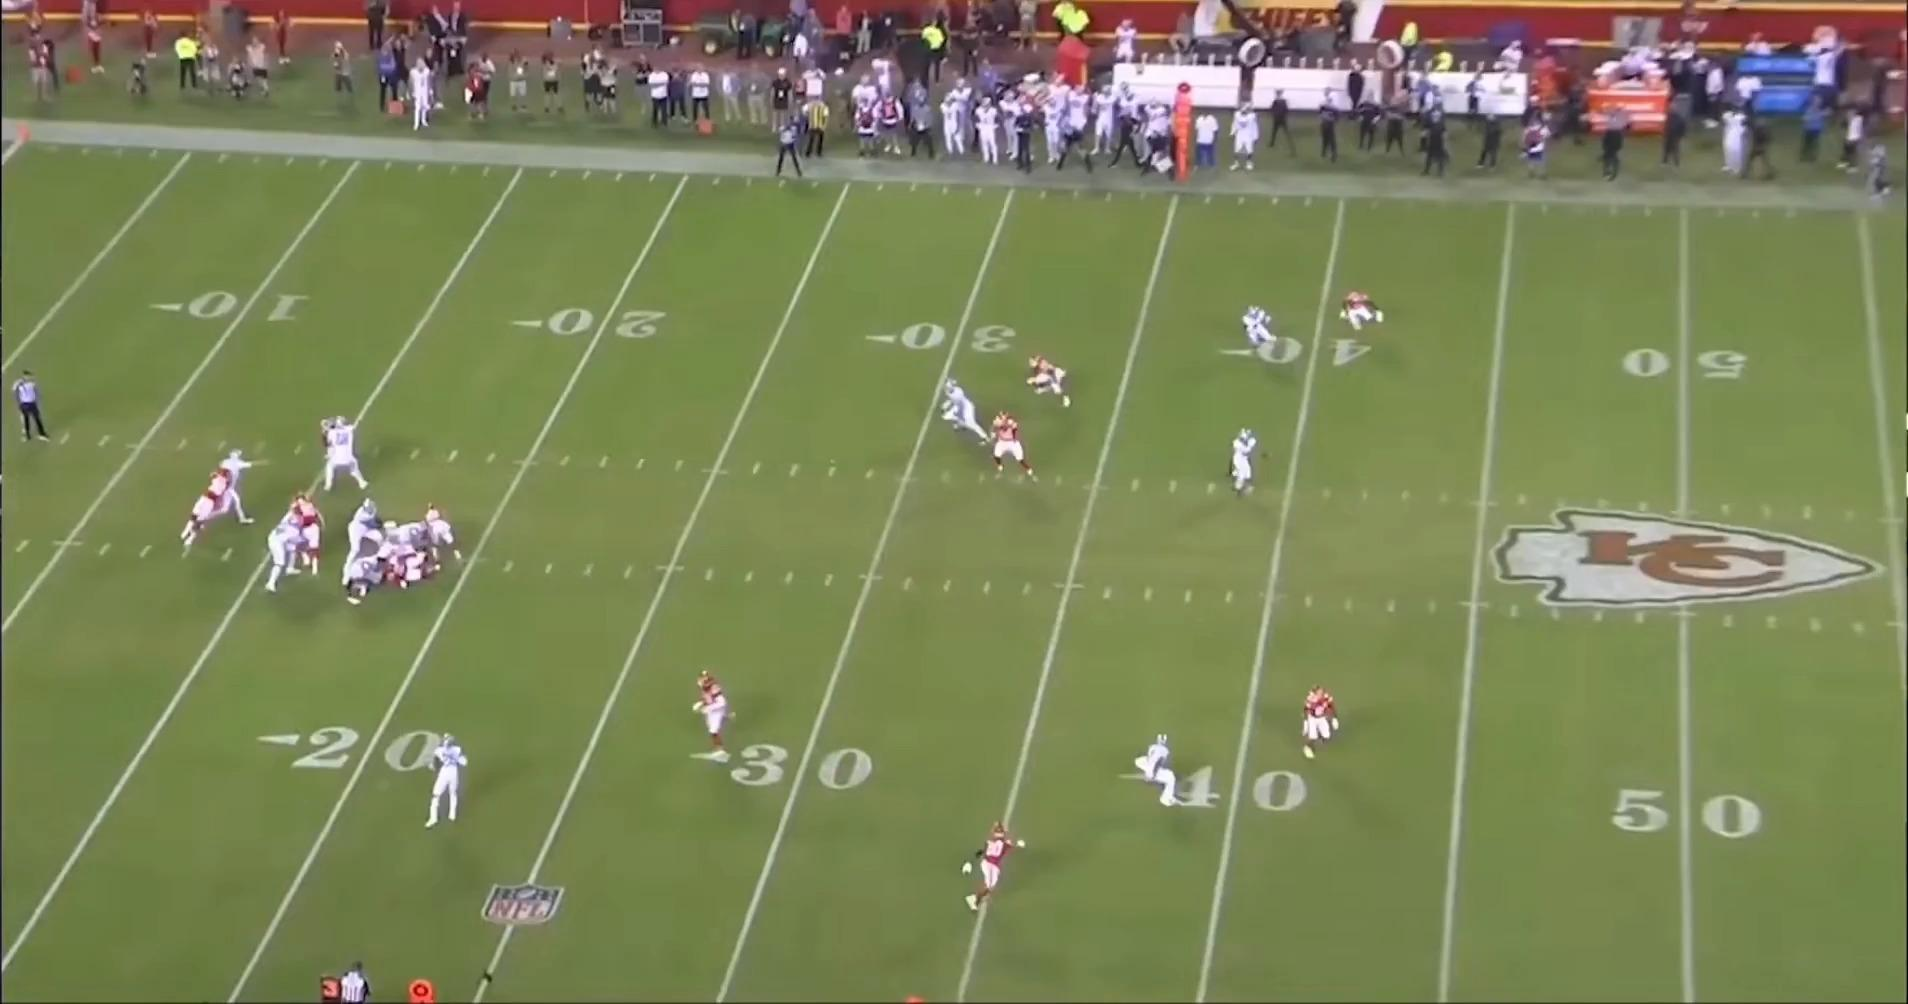player: (963, 818, 1028, 917), (425, 734, 474, 835), (182, 464, 235, 552), (697, 671, 744, 764), (1134, 732, 1188, 808), (321, 416, 375, 492), (935, 372, 989, 444), (982, 407, 1034, 480), (1296, 684, 1343, 764), (260, 513, 304, 598), (209, 450, 255, 530), (382, 528, 432, 596), (342, 536, 389, 604), (1026, 352, 1080, 410), (292, 491, 328, 577), (1219, 427, 1259, 501), (421, 501, 462, 572), (348, 493, 392, 558), (1238, 305, 1284, 359), (1336, 287, 1383, 330), (384, 517, 429, 549)
ref: (17, 366, 57, 447), (773, 112, 811, 181), (339, 956, 383, 1003)
